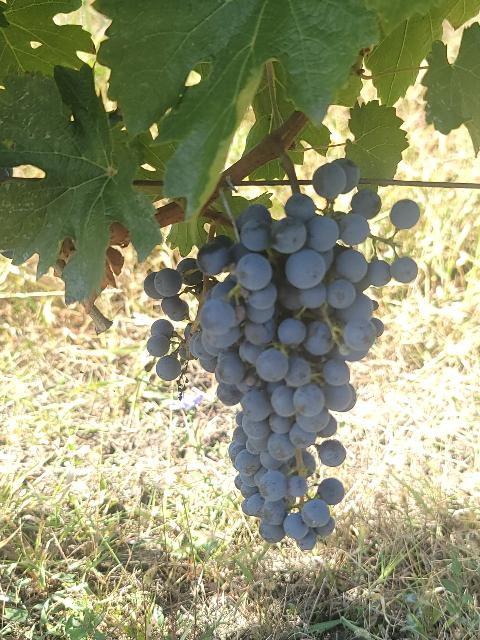grapes: (144, 156, 418, 550)
